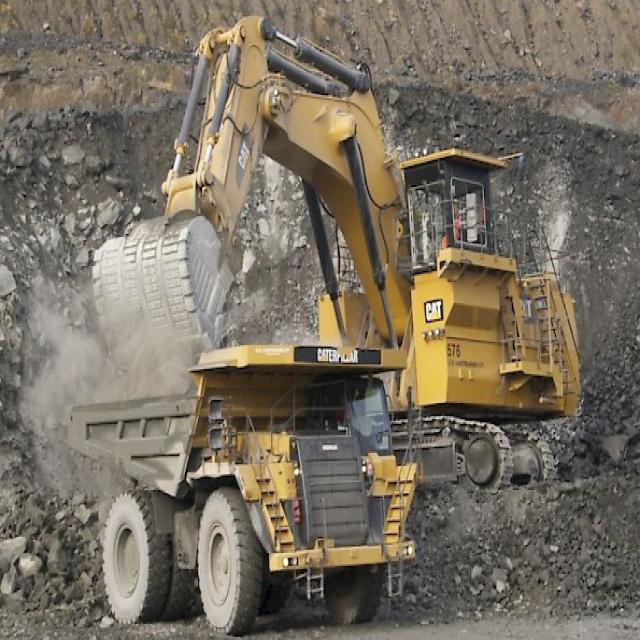dump_truck: (73, 336, 431, 638)
